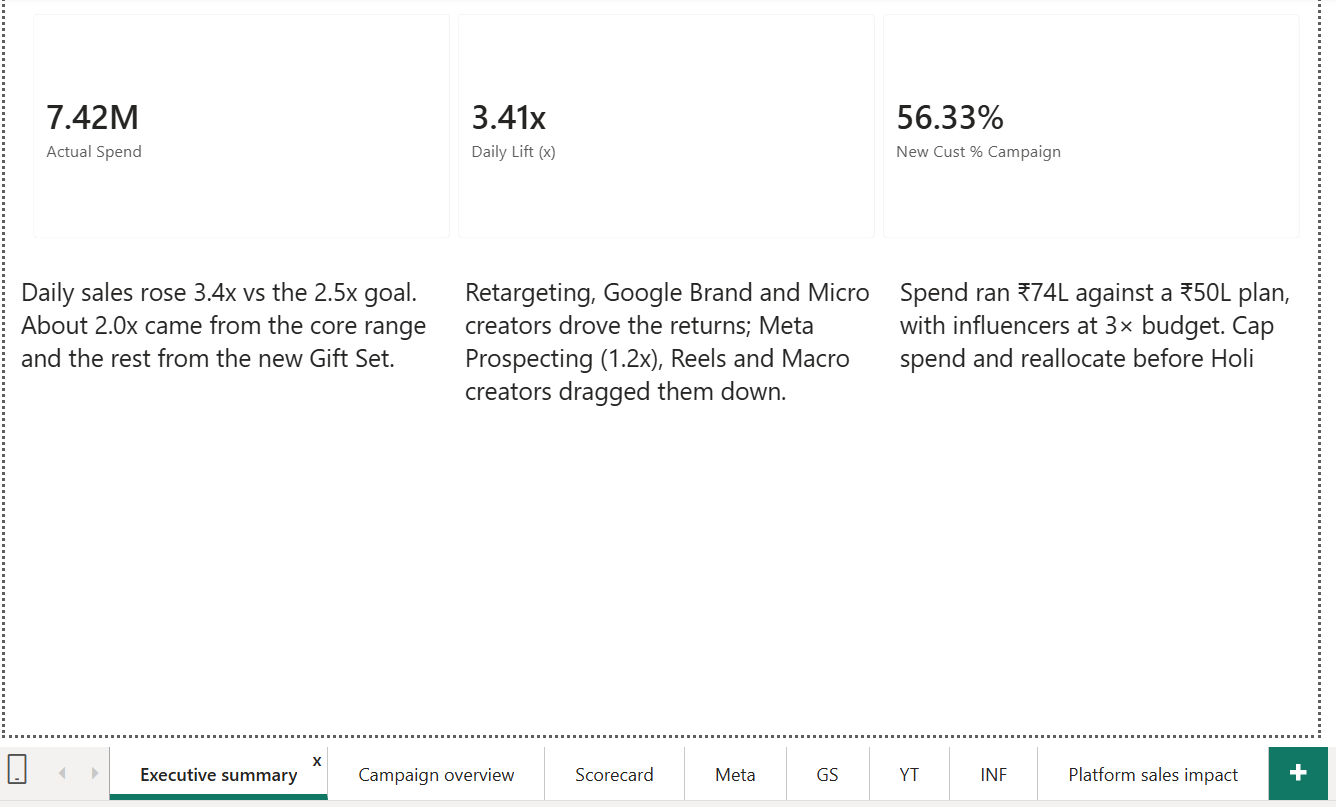

The dashboard page shown, as its layout file describes it:
{"tool":"powerbi","page":{"name":"Executive summary","canvas":[1280,720],"ordinal":0},"visuals":[{"type":"cardVisual","fields":{"Data":["KPI_Measures.Actual Spend","KPI_Measures.Daily Lift (x)","KPI_Measures.New Cust % Campaign"]},"box":[10.8,0,1268.5,253.7],"z":0},{"type":"textbox","box":[10.8,266.6,406.4,421.4],"z":1},{"type":"textbox","box":[442.9,266.6,408.5,421.4],"z":2},{"type":"textbox","box":[866.5,266.6,412.8,421.4],"z":3}]}

Visuals, with their boxes on the page's 1280x720 design canvas (x1, y1, x2, y2). These are canvas units, not pixel positions in the 1336x807 screenshot, which may show the page scaled, cropped or inside an application window:
cardVisual - KPI_Measures.Actual Spend x KPI_Measures.Daily Lift (x): 11,0,1279,254
textbox: 11,267,417,688
textbox: 443,267,851,688
textbox: 866,267,1279,688
